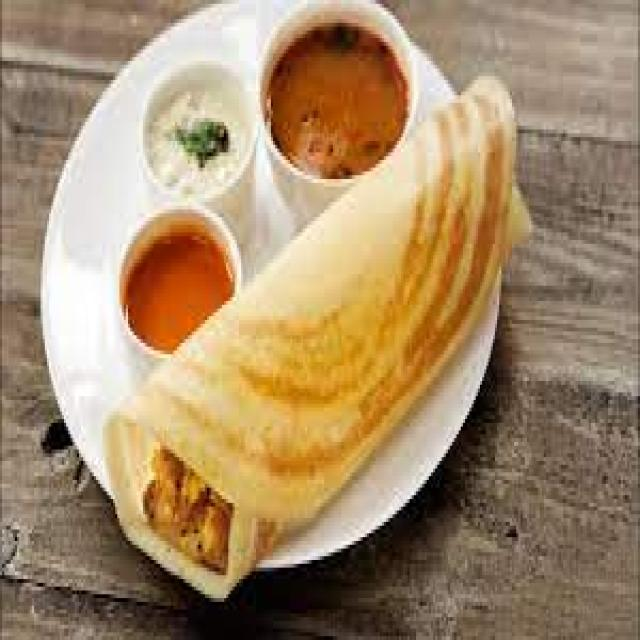Wet Waste: (102, 76, 529, 583), (136, 61, 250, 202)
